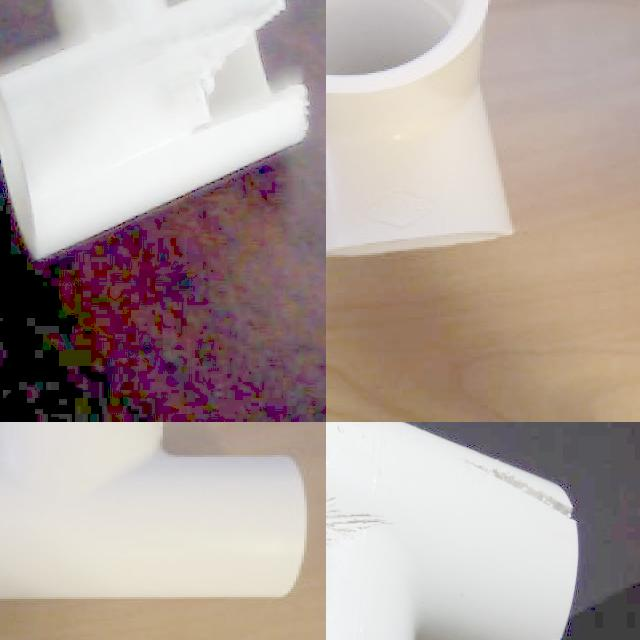Defective: (169, 84, 311, 196), (462, 457, 585, 556), (207, 37, 275, 126), (214, 0, 289, 34), (193, 78, 215, 132)
T Joint: (0, 0, 310, 263)
